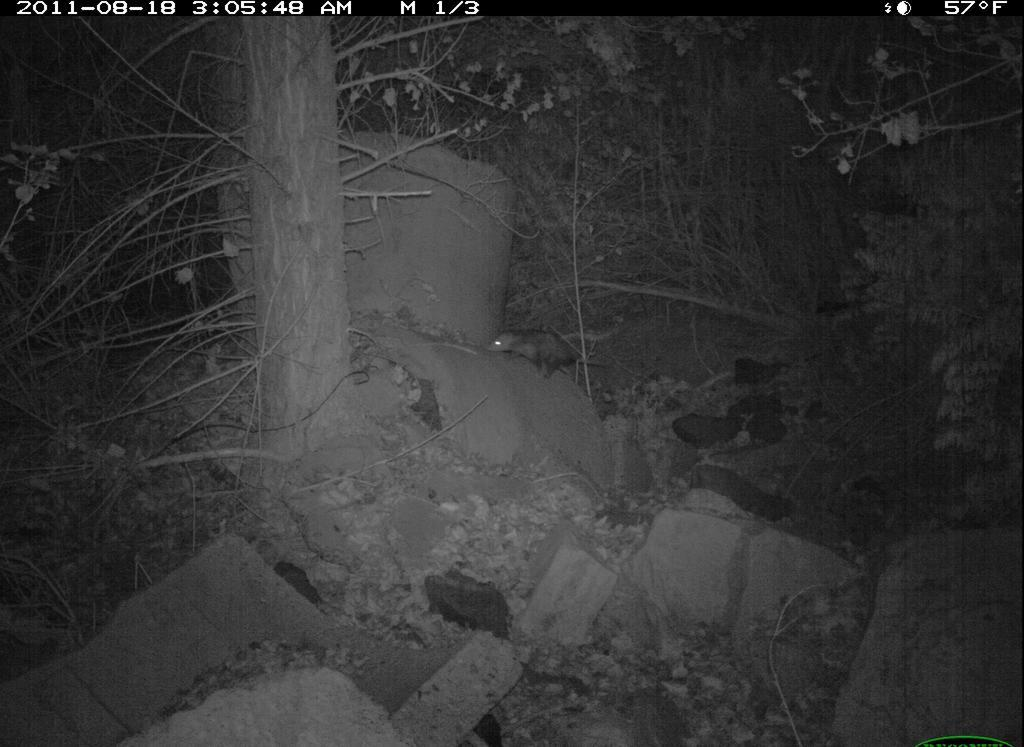opossum: (475, 315, 632, 393)
